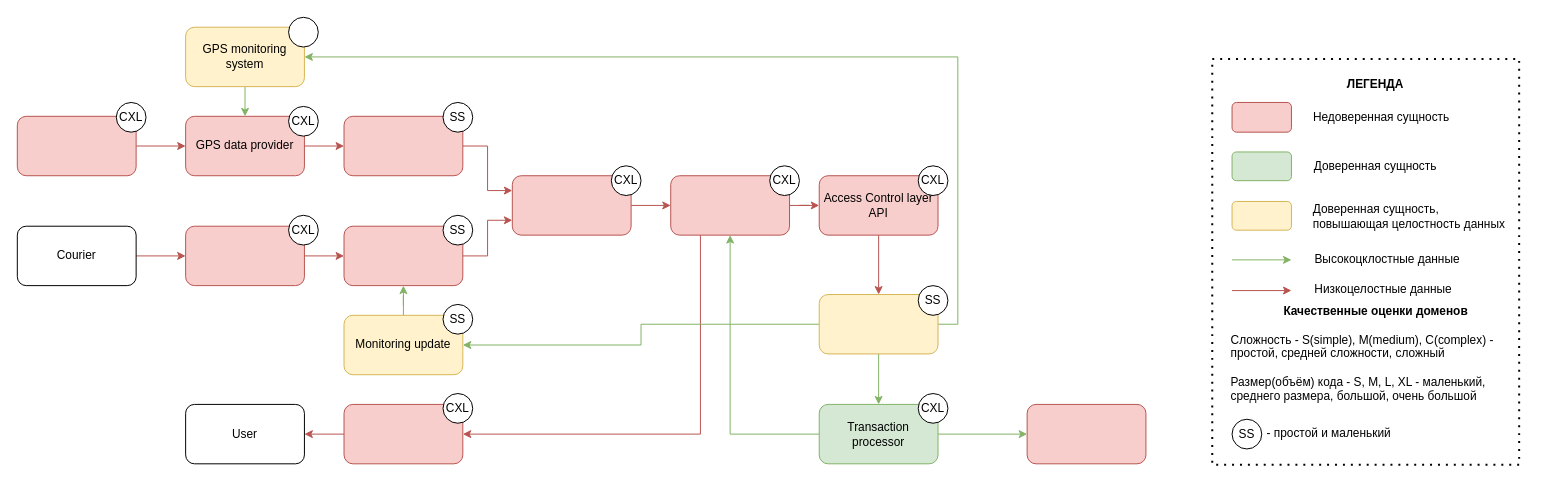
The diagram is 1556 pixels wide and 484 high, and some of its shapes have lost their labels. The shapes that lost their labels are listed below. From the top down, each one's box as (x1, y1, x2, y2) in pixels, then its label:
(288, 16, 318, 47): MM
(16, 115, 136, 176): Google maps API
(343, 115, 463, 176): GPS data processor
(511, 175, 631, 235): Proxy
(670, 175, 790, 235): Service API
(185, 225, 304, 286): Mobile App
(343, 225, 463, 286): Delivery status updater
(818, 294, 938, 354): Validator
(343, 403, 463, 464): Web service
(1026, 403, 1146, 464): DLT
